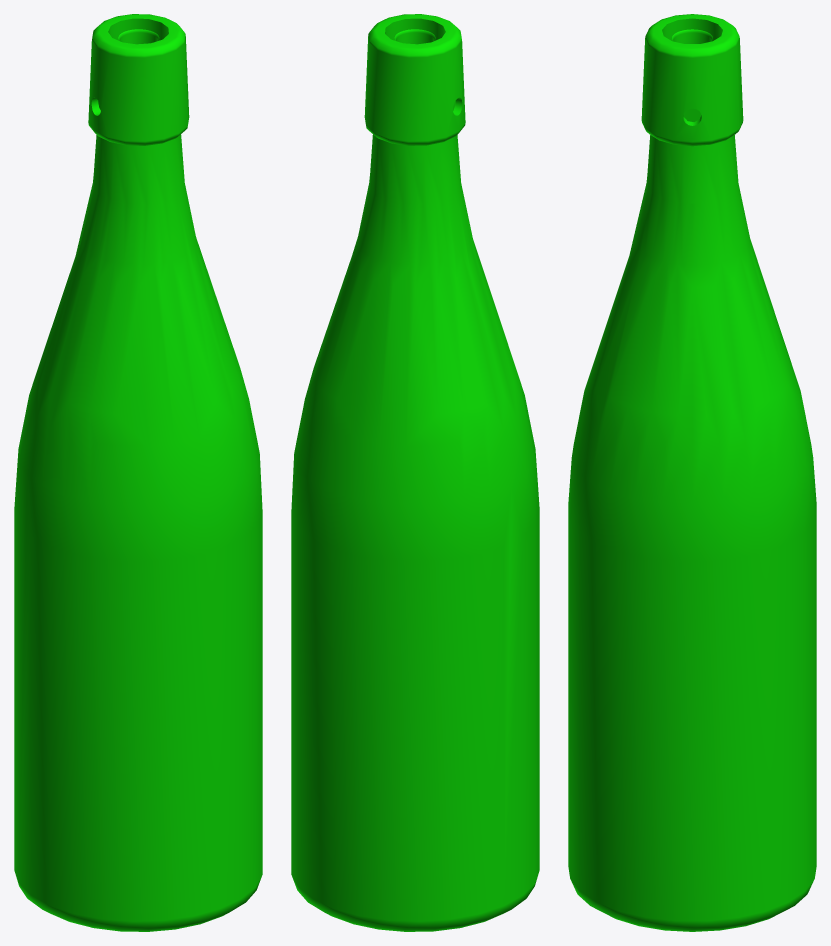
File: glass_bottle.glb
3 views of the same model, side by side, from view 1: azimuth 30°, elevation 25°; view 2: azimuth 150°, elevation 25°; view 3: azimuth 270°, elevation 25° (orthographic).
Parts seen in each view (by area): view 1: Object_2; view 2: Object_2; view 3: Object_2.
Boxes of the visible parts, x1,y1,x2,y2 form: Object_2: (14, 14, 262, 931); Object_2: (291, 14, 539, 931); Object_2: (568, 14, 816, 931).
Bounding box in the file's own units: 0.5176 × 1.97 × 0.5187.
